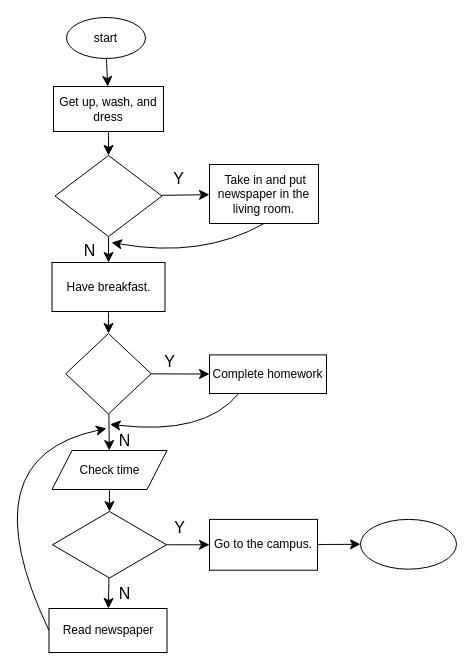
Some shapes in this 475 by 670 pixel diagram are drawn without their labels. Each missing label, with the centre of its shape:
Any homework?: [108,373]
Check if newspaper is delivered?: [108,195]
Stop: [408,543]
Time to go?: [109,544]
